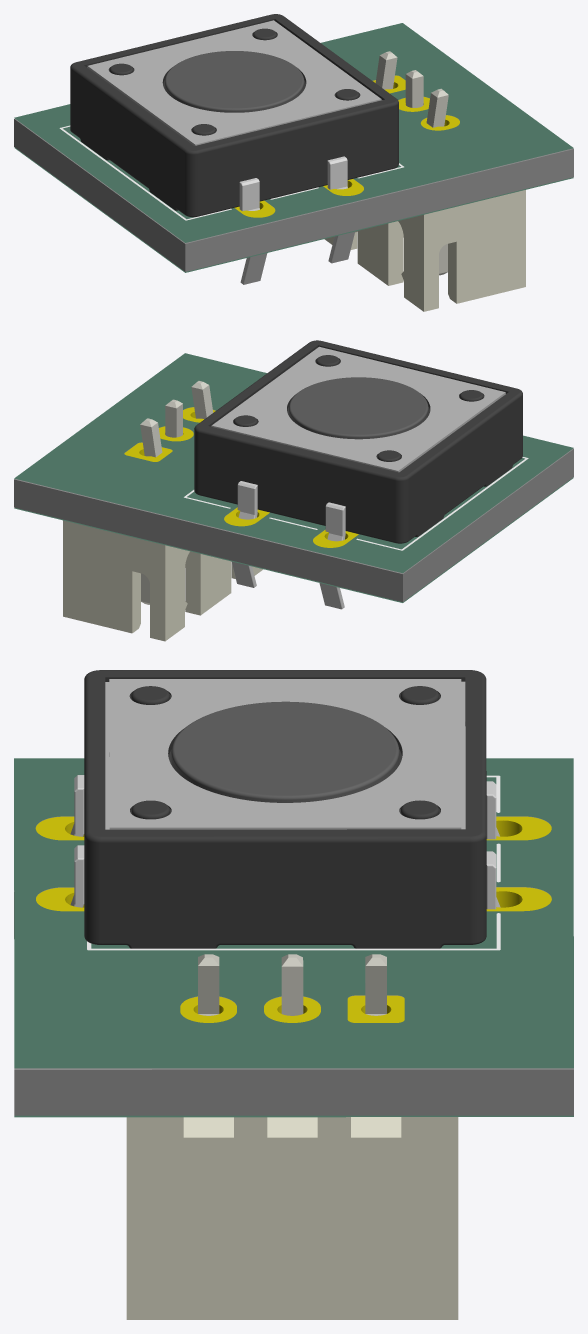
The model's file is button.glb.
The picture shows the model from 3 angles, top to bottom: view 1: azimuth 30°, elevation 25°; view 2: azimuth 150°, elevation 25°; view 3: azimuth 270°, elevation 25°; orthographic projection. The views are drawn at different scales.
Parts seen in each view (by area): view 1: BUTTON_BEINCHEN_004, R_0805_2012Metric002, JST_XH_B3B-XH-A_1x03_P2.50mm_Vertical003; view 2: BUTTON_BEINCHEN_004, R_0805_2012Metric002, JST_XH_B3B-XH-A_1x03_P2.50mm_Vertical003; view 3: R_0805_2012Metric002, BUTTON_BEINCHEN_004, JST_XH_B3B-XH-A_1x03_P2.50mm_Vertical003.
Part boxes in pixels (box(x1,y1,x2,y2)): BUTTON_BEINCHEN_004: box(70, 14, 398, 284); R_0805_2012Metric002: box(14, 23, 573, 272); JST_XH_B3B-XH-A_1x03_P2.50mm_Vertical003: box(324, 51, 525, 311); BUTTON_BEINCHEN_004: box(194, 340, 522, 609); R_0805_2012Metric002: box(14, 353, 573, 602); JST_XH_B3B-XH-A_1x03_P2.50mm_Vertical003: box(63, 381, 262, 641); R_0805_2012Metric002: box(14, 758, 573, 1117); BUTTON_BEINCHEN_004: box(70, 670, 500, 948); JST_XH_B3B-XH-A_1x03_P2.50mm_Vertical003: box(126, 954, 458, 1319).
Size of the model in its own units: 119 by 67.61 by 90.9.
